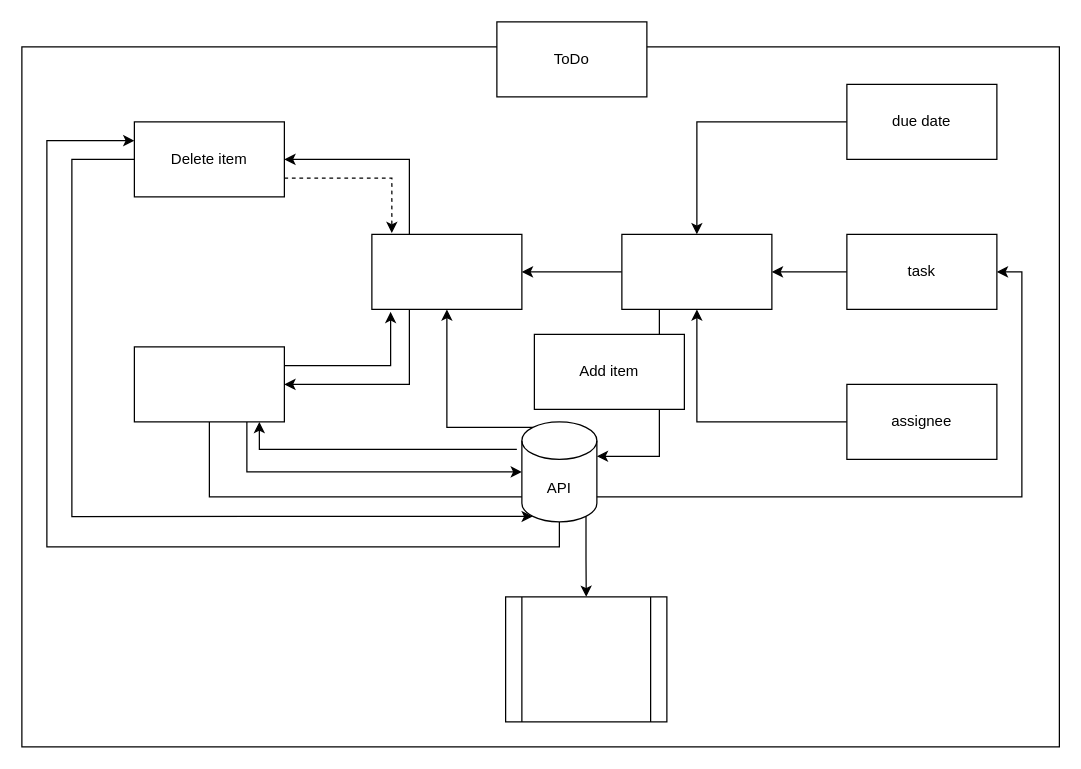
Some shapes in this 1081 by 769 pixel diagram are drawn without their labels. The centre of each missing label's shape, as x and y in pixels:
data model text assignee complete difficulty: (x=585, y=659)
Form.jsx: (x=696, y=271)
List.jsx: (x=446, y=271)
Update Item: (x=208, y=384)
